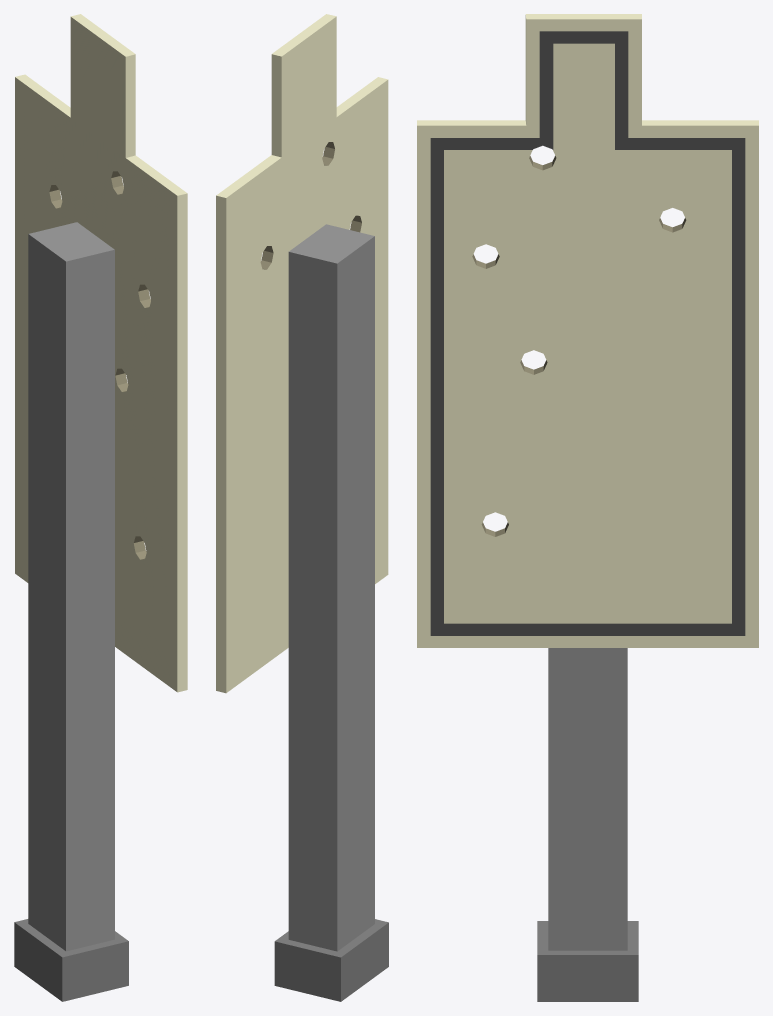
File: target1.fbx
3 renders of one model, left to right at view 1: azimuth 30°, elevation 25°; view 2: azimuth 150°, elevation 25°; view 3: azimuth 270°, elevation 25°, orthographic. The views are drawn at different scales.
Parts seen in each view (by area): view 1: Cube_9; view 2: Cube_9; view 3: Cube_9.
Part boxes in pixels (x1,y1,x2,y2): Cube_9: [14, 14, 187, 1001]; Cube_9: [216, 14, 388, 1001]; Cube_9: [417, 14, 758, 1001].
Bounding box in the file's own units: 8.59 × 113 × 35.52.
